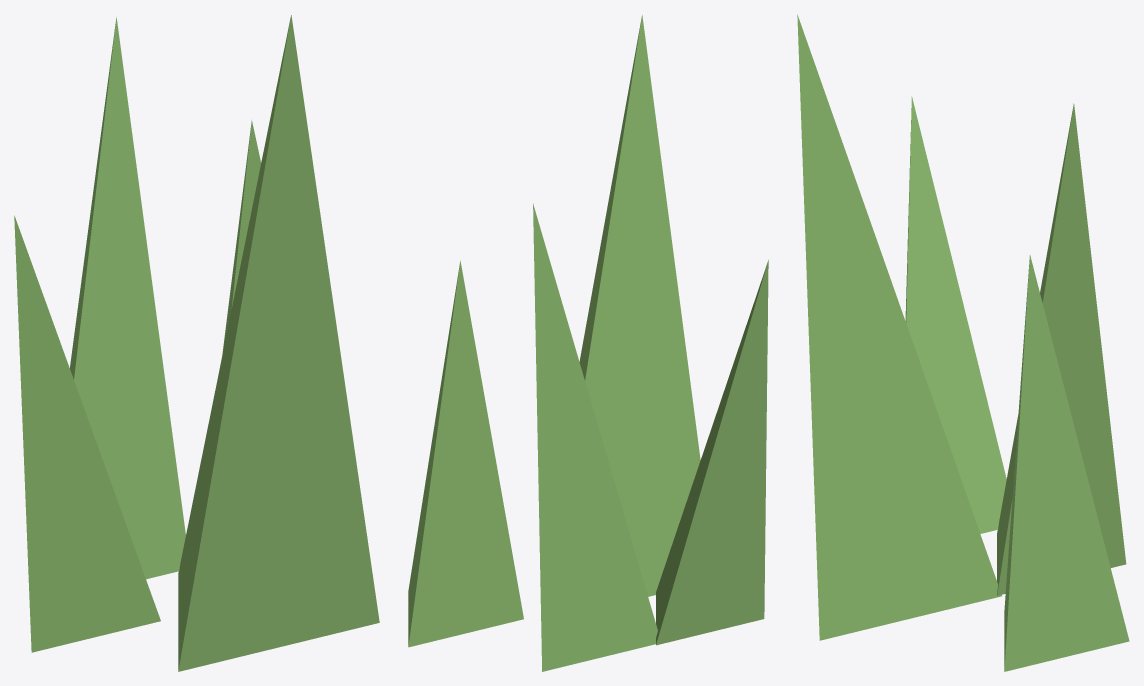
File: GrassStart.fbx
The picture shows the model from 3 angles, left to right: view 1: azimuth 30°, elevation 25°; view 2: azimuth 150°, elevation 25°; view 3: azimuth 270°, elevation 25°; orthographic projection. The views are drawn at different scales.
Visible parts, largest first — view 1: Grass 1; view 2: Grass 1; view 3: Grass 1.
Boxes of the visible parts, x1,y1,x2,y2 form: Grass 1: (14,15,379,671); Grass 1: (408,15,768,671); Grass 1: (797,14,1129,671).
Size of the model in its own units: 51.77 by 84.27 by 43.37.
